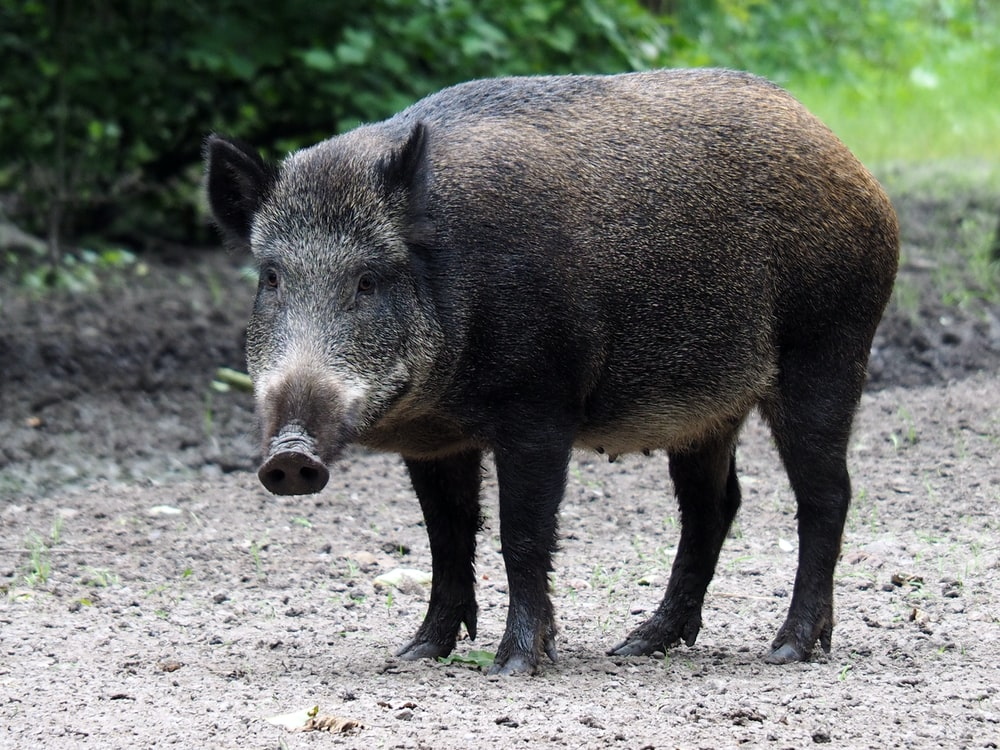boar: (194, 58, 904, 678)
